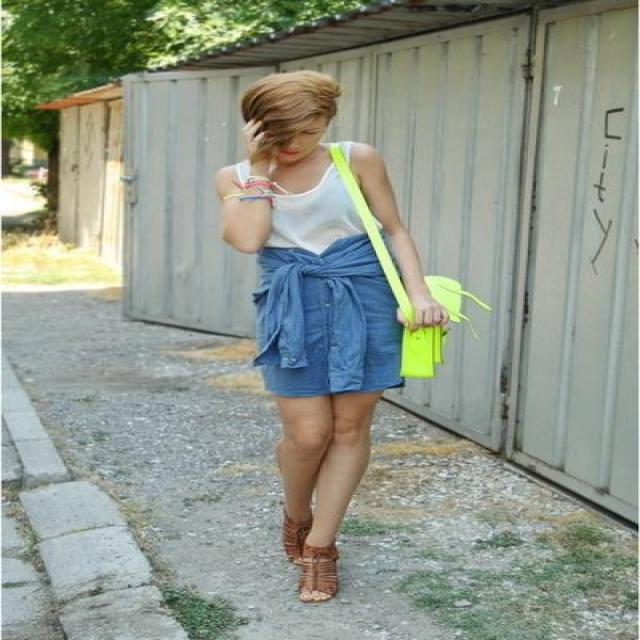bag: (355, 198, 472, 376)
shirt: (270, 137, 372, 254)
shoe: (261, 532, 347, 619)
skirt: (253, 232, 403, 397)
